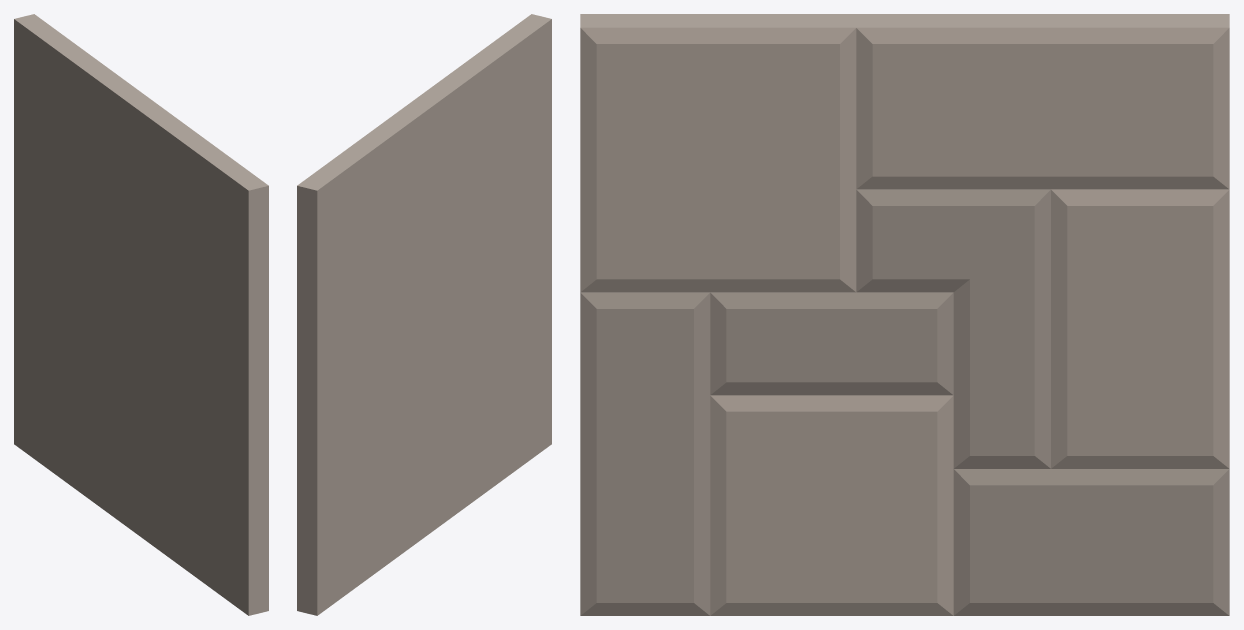
The model's file is Stone_Wall_5.glb.
The picture shows the model from 3 angles, left to right: view 1: azimuth 30°, elevation 25°; view 2: azimuth 150°, elevation 25°; view 3: azimuth 270°, elevation 25°; orthographic projection. The views are drawn at different scales.
Parts seen in each view (by area): view 1: object1; view 2: object1; view 3: object1.
Part boxes in pixels (x1=…): object1: x1=14, y1=14, x2=268, y2=615; object1: x1=297, y1=14, x2=551, y2=615; object1: x1=580, y1=14, x2=1229, y2=615.
Size of the model in its own units: 0.0563 by 1 by 1.
